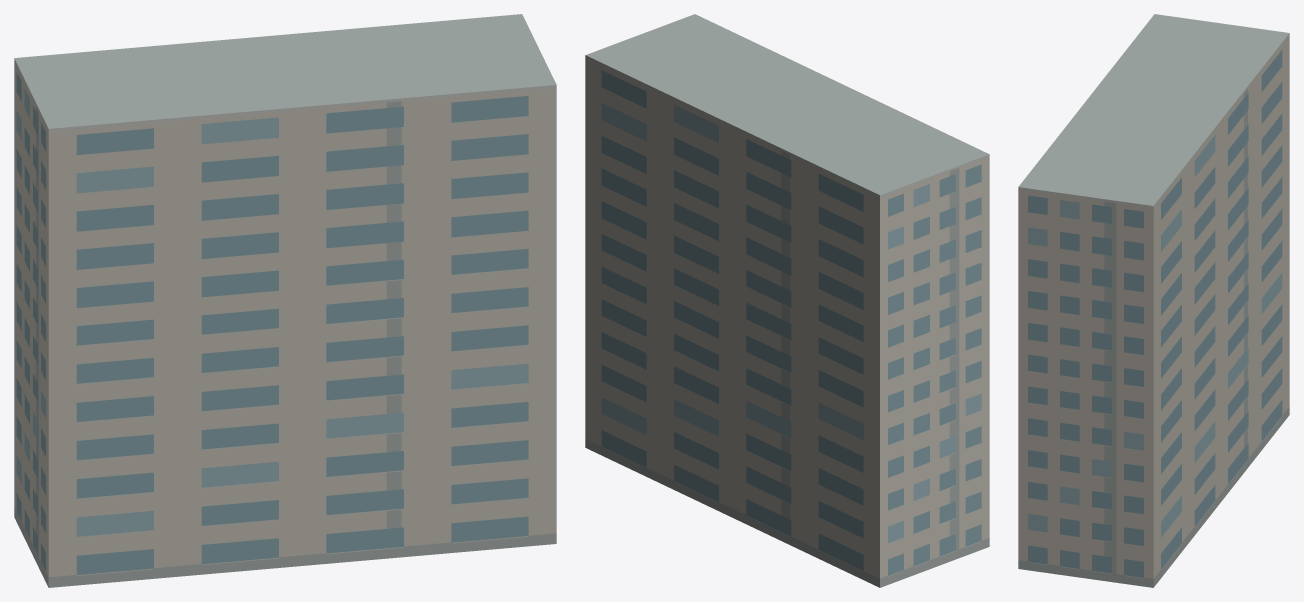
Rendered from residential-a2acd3b5-8b4f-4fe8-a788-1becbc97b883.glb.
The picture shows the model from 3 angles, left to right: view 1: azimuth 30°, elevation 25°; view 2: azimuth 150°, elevation 25°; view 3: azimuth 270°, elevation 25°; orthographic projection. The views are drawn at different scales.
Visible parts, largest first — view 1: residential-a2acd3b5-8b4f-4fe8-a788-1becbc97b883.tmp; view 2: residential-a2acd3b5-8b4f-4fe8-a788-1becbc97b883.tmp; view 3: residential-a2acd3b5-8b4f-4fe8-a788-1becbc97b883.tmp.
Boxes of the visible parts, bbox=[...] form: residential-a2acd3b5-8b4f-4fe8-a788-1becbc97b883.tmp: bbox=[14, 14, 556, 587]; residential-a2acd3b5-8b4f-4fe8-a788-1becbc97b883.tmp: bbox=[585, 14, 989, 587]; residential-a2acd3b5-8b4f-4fe8-a788-1becbc97b883.tmp: bbox=[1018, 14, 1289, 587].
Bounding box in the file's own units: 43.14 × 40 × 25.77.
